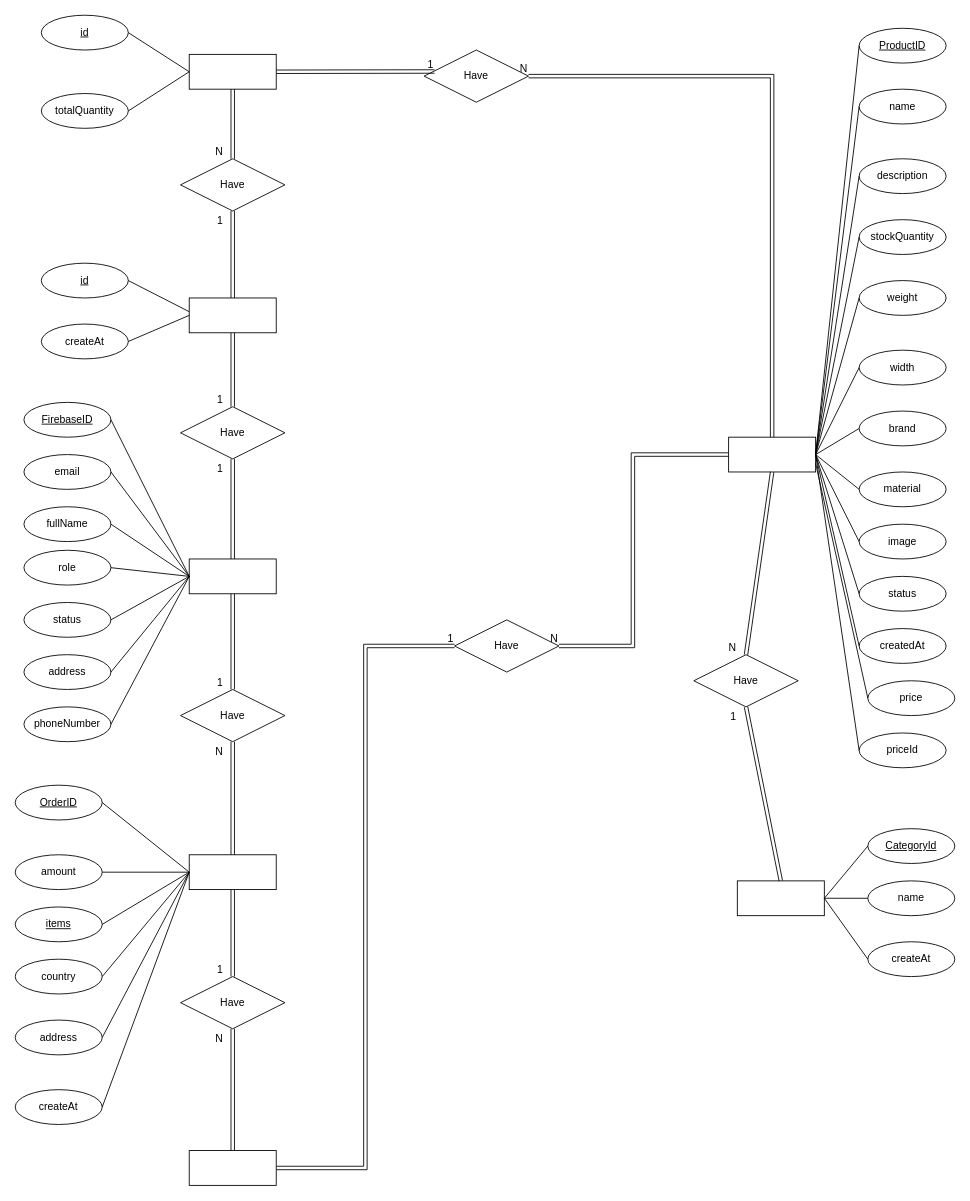
Image size: 970x1201. Some labels were removed from this diagram. The shapes that lost their labels are listed below. From the top down, each one's centre as x and y in pixels, then its label:
At point (232, 71): "CartItem".
At point (232, 315): "Cart".
At point (772, 454): "Product".
At point (232, 576): "User".
At point (232, 872): "Order".
At point (780, 898): "Category".
At point (232, 1167): "OrderItem".
